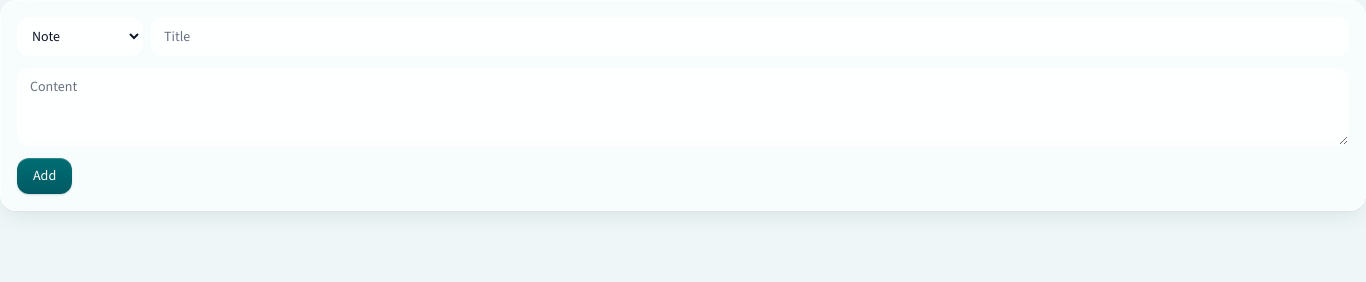
Test: ItemCreateForm › reveals a URL field for references and blocks submit without one
The width and height of the screenshot is (1366, 282).
Select "Reference" in the dropdown at [80, 36], box [17, 17, 143, 56]
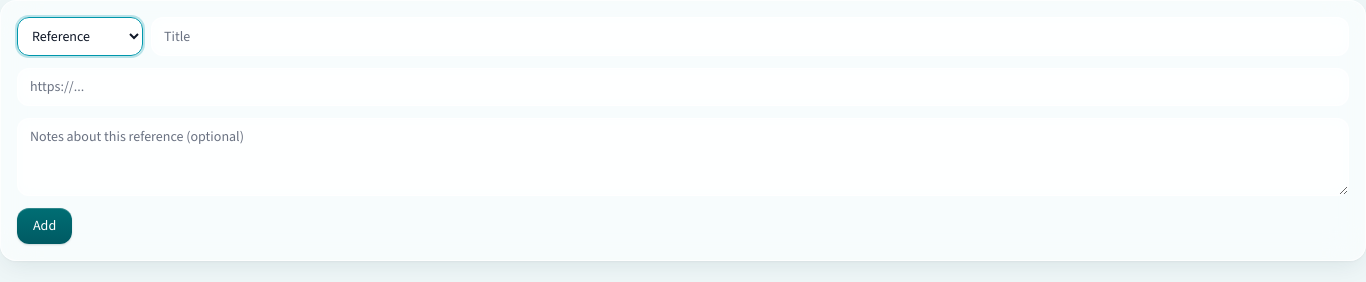
Check: the field with placeholder "https://..." is shown, box [17, 68, 1349, 106]
Type "A link" into the field with placeholder "Title" at [750, 36], box [151, 17, 1349, 56]
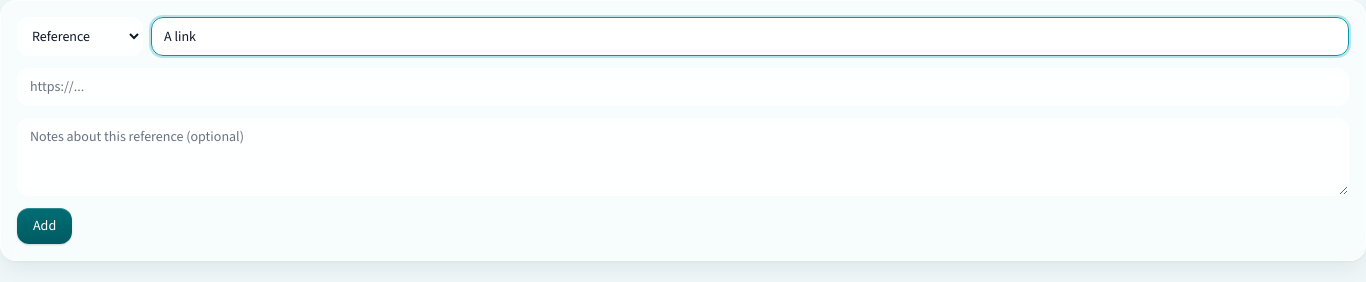
Click the button "Add" at [45, 226], box [17, 208, 72, 244]
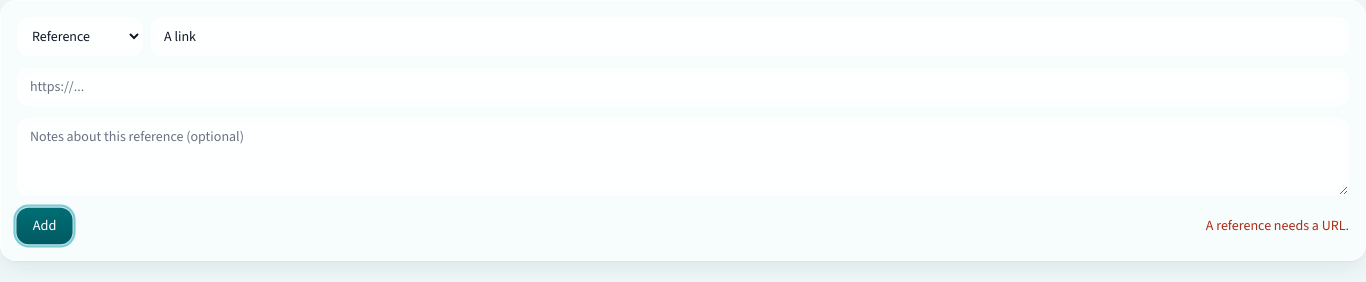
Check: the text "A reference needs a URL." is shown, box [1206, 216, 1349, 236]
